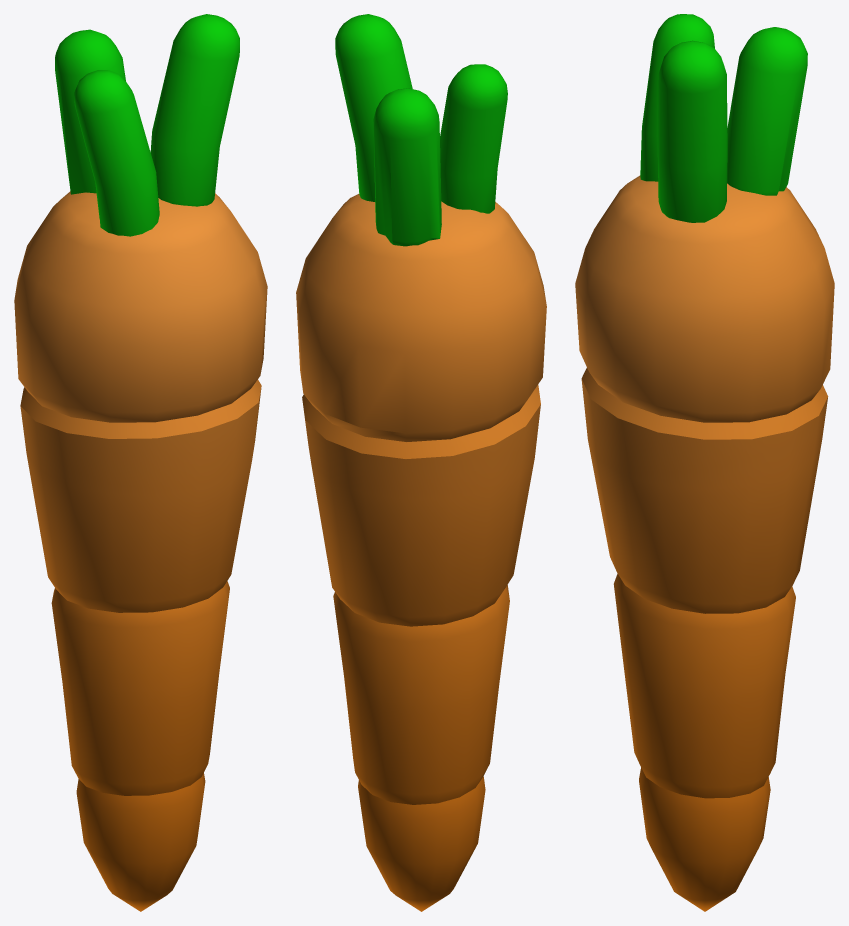
The model's file is Carrot.glb.
3 renders of one model, left to right at view 1: azimuth 30°, elevation 25°; view 2: azimuth 150°, elevation 25°; view 3: azimuth 270°, elevation 25°, orthographic. The views are drawn at different scales.
Parts seen in each view (by area): view 1: Carrot; view 2: Carrot; view 3: Carrot.
Boxes of the visible parts, x1=… form: Carrot: x1=14, y1=14, x2=267, y2=911; Carrot: x1=296, y1=14, x2=546, y2=911; Carrot: x1=575, y1=14, x2=834, y2=911.
Size of the model in its own units: 0.0424 by 0.1619 by 0.0424.
Materials: 1 (1 with a texture image).
